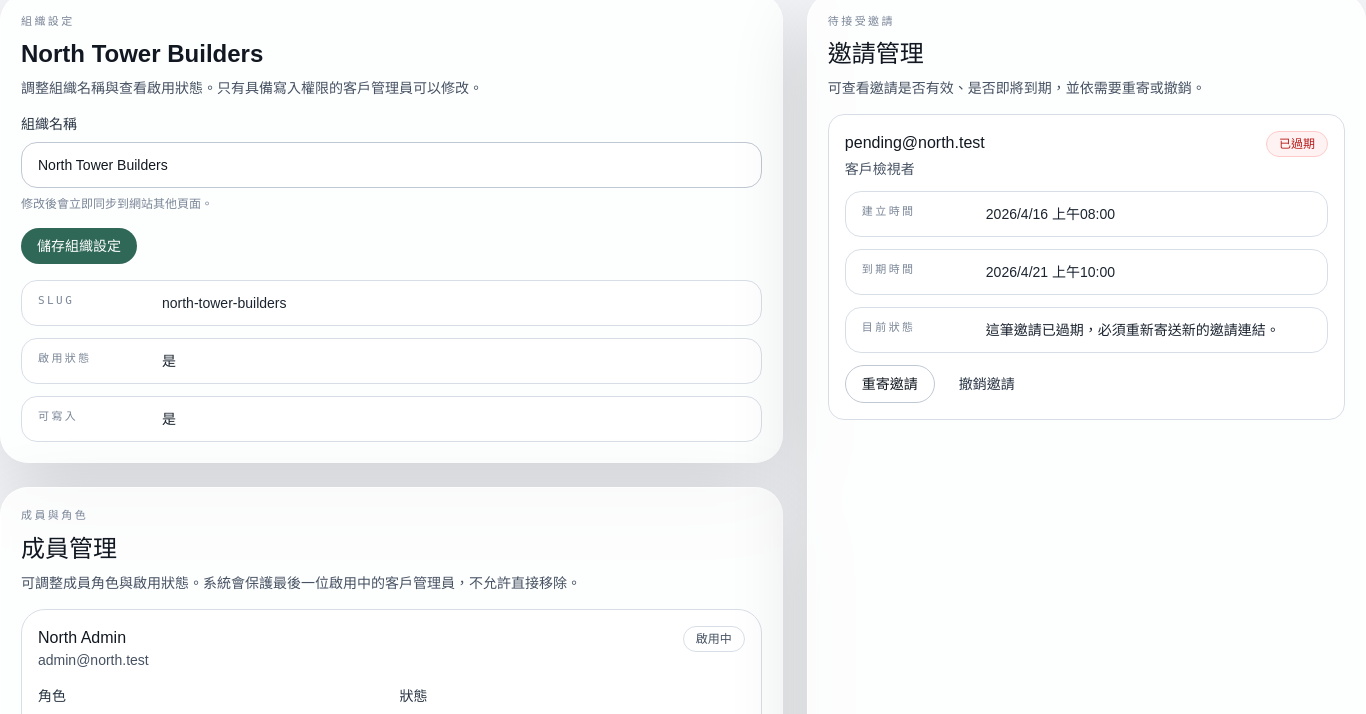
Test: TeamPage › lets customer admins resend and revoke pending invites
(page scrolled)
Expected: the text "pending@north.test" is shown, [845, 131, 985, 155]
Click the button with aria-label "resend-invite-invite-1": click(890, 384) [845, 365, 935, 403]
(page scrolled)
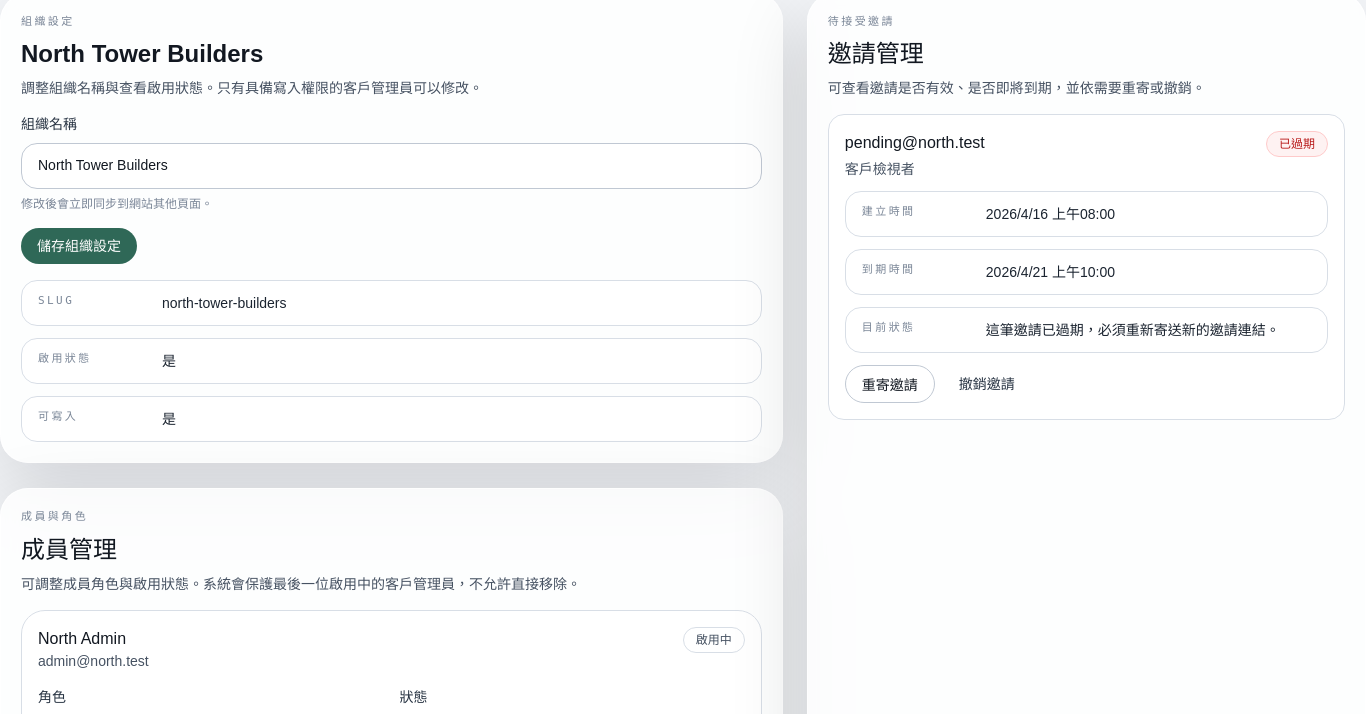
Click the button with aria-label "revoke-invite-invite-1": click(987, 385) [943, 366, 1031, 404]
(page scrolled)
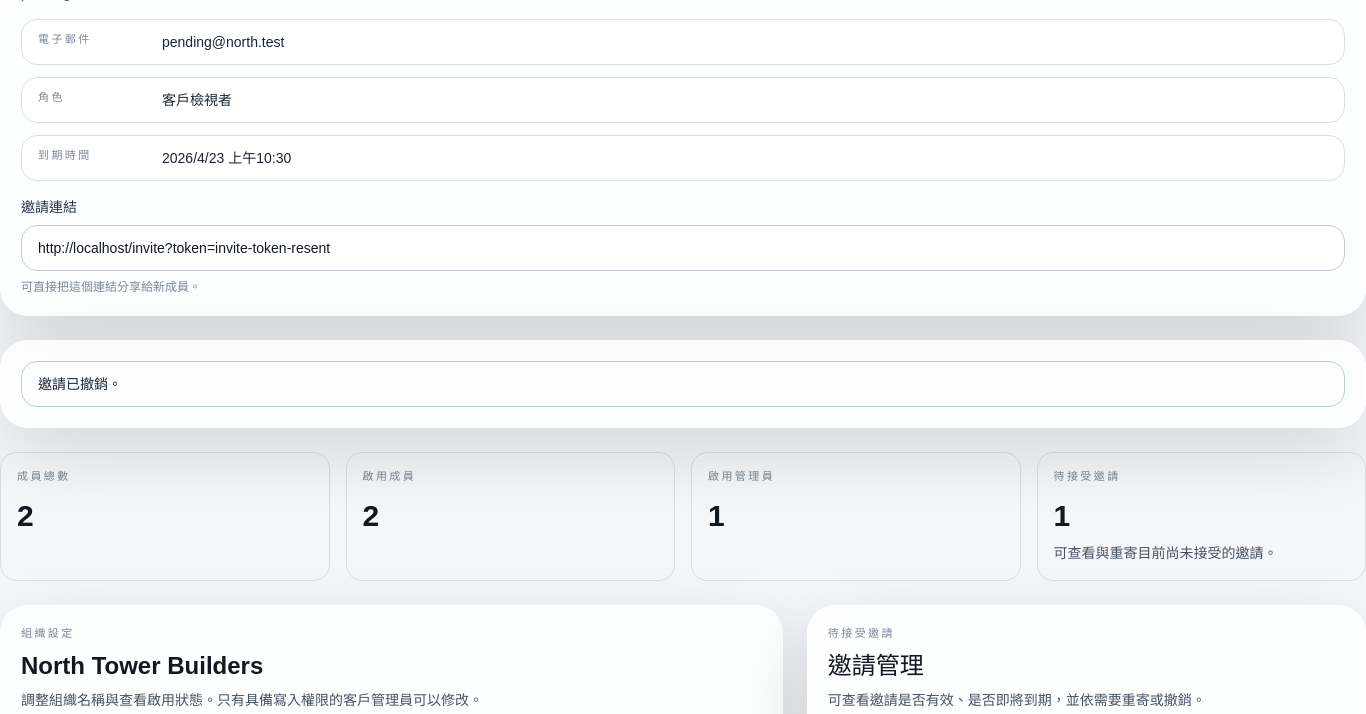
Result: the text "邀請已撤銷。" is shown at [21, 361, 1345, 407]
